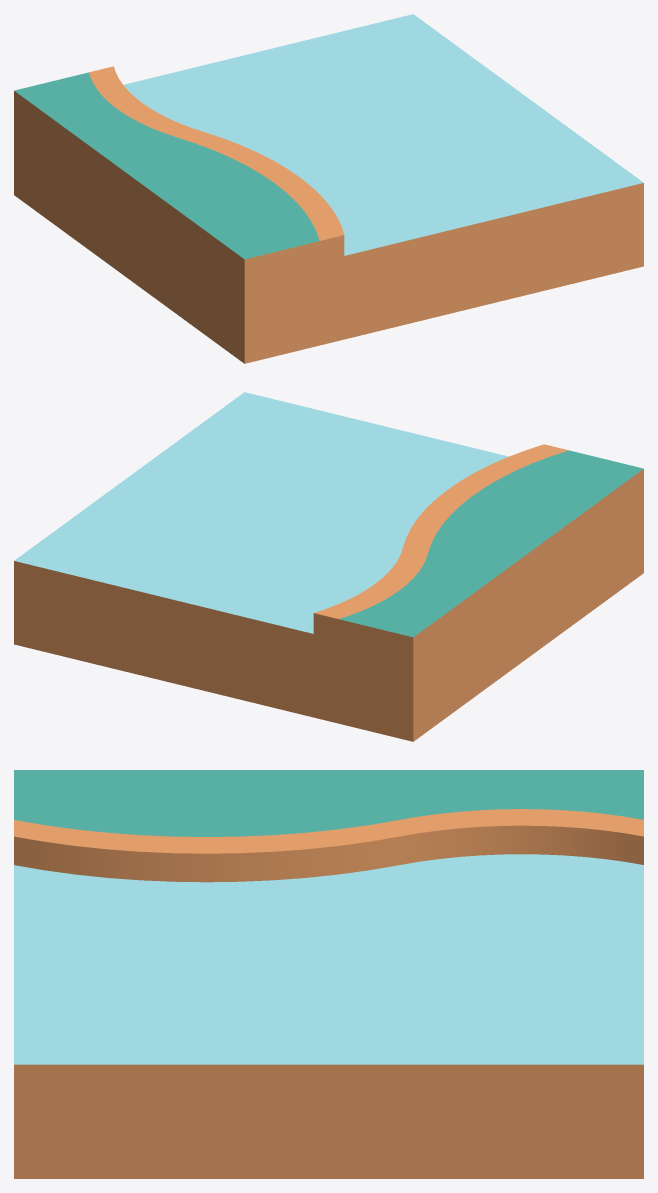
Rendered from ground_dirtRiverSide.fbx.
3 views of the same model, one above another, from view 1: azimuth 30°, elevation 25°; view 2: azimuth 150°, elevation 25°; view 3: azimuth 270°, elevation 25° (orthographic). The views are drawn at different scales.
Parts seen in each view (by area): view 1: ground_dirtRiverSide; view 2: ground_dirtRiverSide; view 3: ground_dirtRiverSide.
Part boxes in pixels (bbox=[...]): ground_dirtRiverSide: bbox=[14, 14, 643, 363]; ground_dirtRiverSide: bbox=[14, 392, 643, 741]; ground_dirtRiverSide: bbox=[14, 770, 643, 1178].
Bounding box in the file's own units: 10 × 2.5 × 10.
